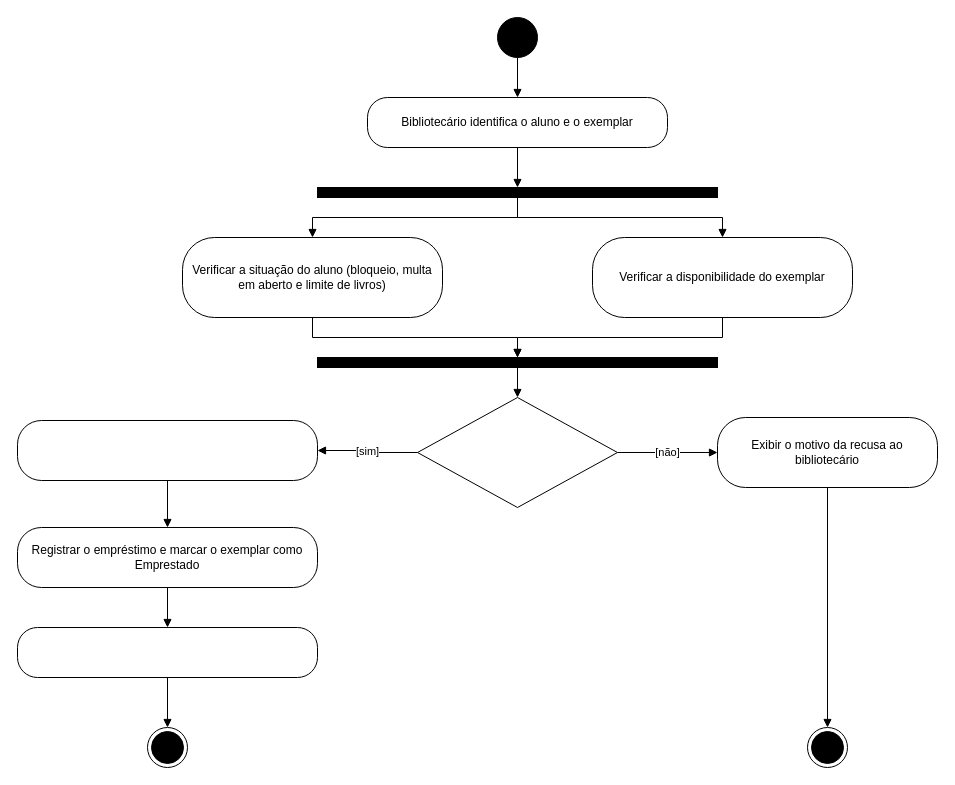
Some shapes in this 955 by 785 pixel diagram are drawn without their labels. Here are the shapes that lost their labels. From the top down, the box of each, then its label:
(16, 420, 318, 480): Calcular a data prevista de devolução (prazo padrão: 7 dias)
(416, 396, 618, 508): Aluno liberado e exemplar disponível?
(16, 626, 318, 678): Entregar o exemplar ao aluno
